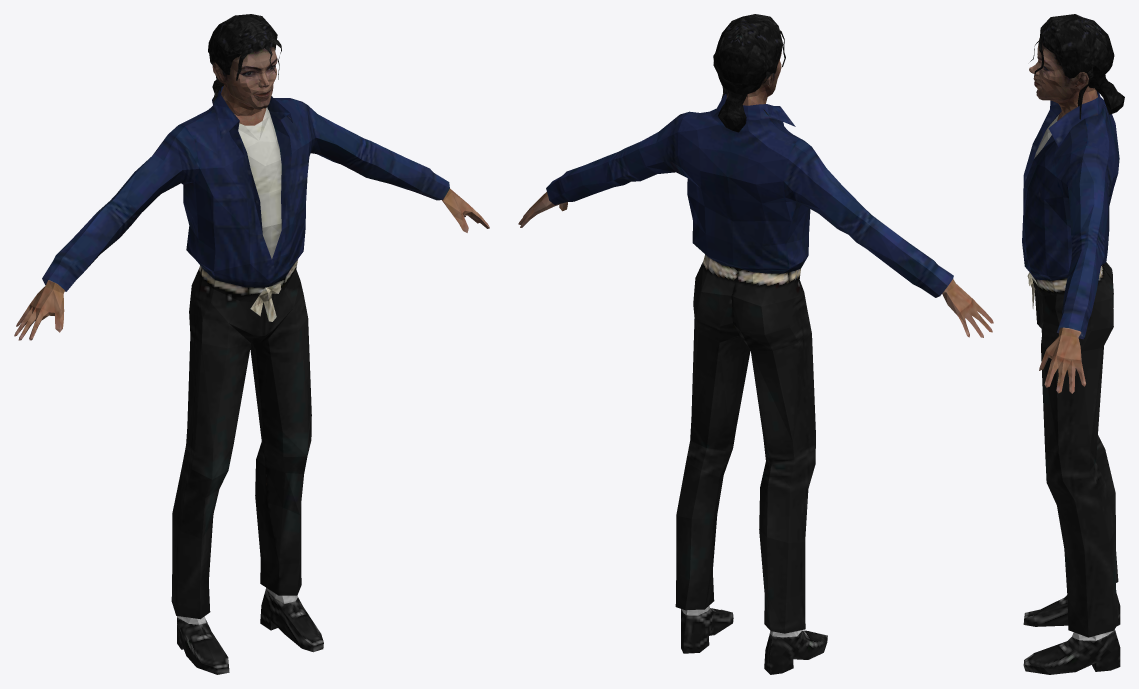
Rendered from michael_jackson.glb.
The picture shows the model from 3 angles, left to right: view 1: azimuth 30°, elevation 25°; view 2: azimuth 150°, elevation 25°; view 3: azimuth 270°, elevation 25°; orthographic projection.
Size of the model in its own units: 1.54 by 1.97 by 0.293.
Materials: 1 (1 with a texture image).
